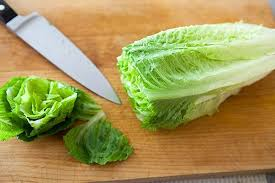lettuce: (121, 21, 275, 127), (2, 73, 134, 175)
